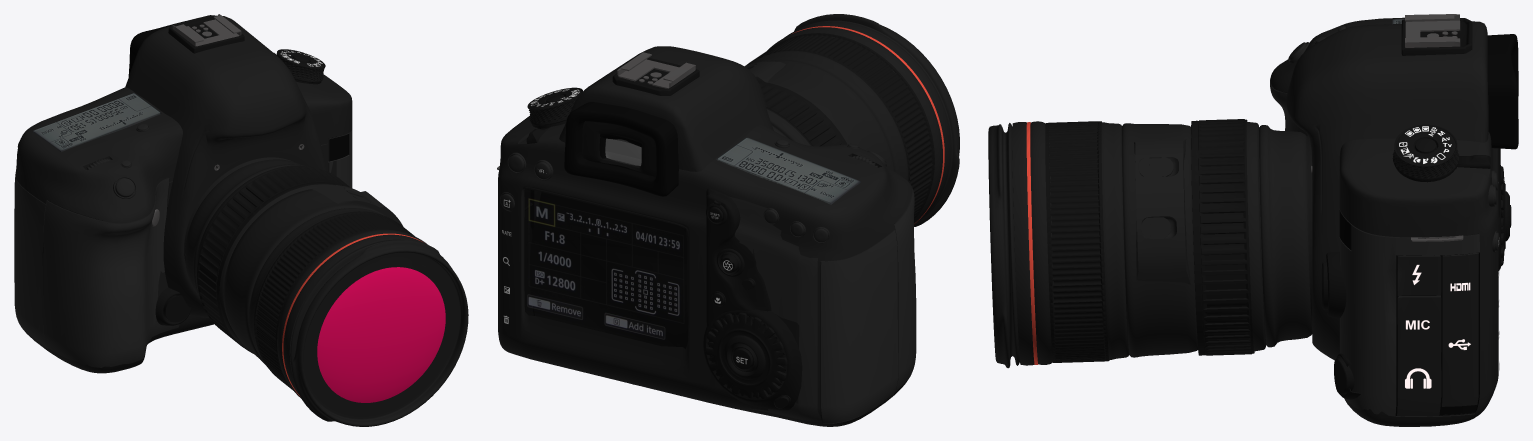
The model's file is unbranded_camera.gltf.
3 renders of one model, left to right at view 1: azimuth 30°, elevation 25°; view 2: azimuth 150°, elevation 25°; view 3: azimuth 270°, elevation 25°, orthographic. The views are drawn at different scales.
Visible parts, largest first — view 1: Body, Body Center, Lens Body, Lens Gless, Circle002, Ring.001, Ring, LCD, Flash Shoe, Selector, Button.010, Lens Button holder (+1 smaller); view 2: Body, Body Center, Screen, Lens Body, Scroll.001, Ring.001, Visor, Body Feature, LCD, Circle002, Ring, Flash Shoe (+6 smaller); view 3: Body, Lens Body, Body Center, Ring.001, Ring, Lens Button holder, Circle002, Visor, Selector, Flash Shoe, Button.008, Ring.002 (+6 smaller).
Part boxes in pixels (box(x1,y1,x2,y2)): Body: box(14, 74, 352, 373); Body Center: box(125, 16, 327, 317); Lens Body: box(184, 157, 427, 398); Lens Gless: box(317, 267, 445, 402); Circle002: box(290, 240, 468, 426); Ring.001: box(254, 211, 414, 390); Ring: box(197, 166, 350, 353); LCD: box(33, 93, 161, 151); Flash Shoe: box(168, 14, 244, 53); Selector: box(276, 49, 325, 84); Button.010: box(155, 287, 191, 325); Lens Button holder: box(312, 185, 403, 226); Body: box(498, 115, 916, 426); Body Center: box(530, 46, 773, 384); Screen: box(524, 189, 687, 348); Lens Body: box(748, 22, 950, 224); Scroll.001: box(703, 309, 802, 410); Ring.001: box(745, 33, 934, 219); Visor: box(564, 102, 678, 196); Body Feature: box(706, 188, 771, 331); LCD: box(716, 137, 860, 204); Circle002: box(794, 14, 959, 226); Ring: box(758, 81, 847, 146); Flash Shoe: box(612, 52, 699, 95); Body: box(1270, 17, 1498, 426); Lens Body: box(1012, 121, 1312, 365); Body Center: box(1286, 21, 1488, 370); Ring.001: box(1045, 121, 1109, 362); Ring: box(1191, 119, 1254, 355); Lens Button holder: box(1134, 139, 1190, 284); Circle002: box(988, 123, 1019, 368); Visor: box(1487, 34, 1518, 149); Selector: box(1392, 124, 1459, 182); Flash Shoe: box(1401, 14, 1472, 55); Button.008: box(1321, 252, 1346, 318); Ring.002: box(1026, 122, 1038, 364).
Size of the model in its own units: 0.1886 by 0.156 by 0.2238.
Materials: 21 (4 with a texture image).
